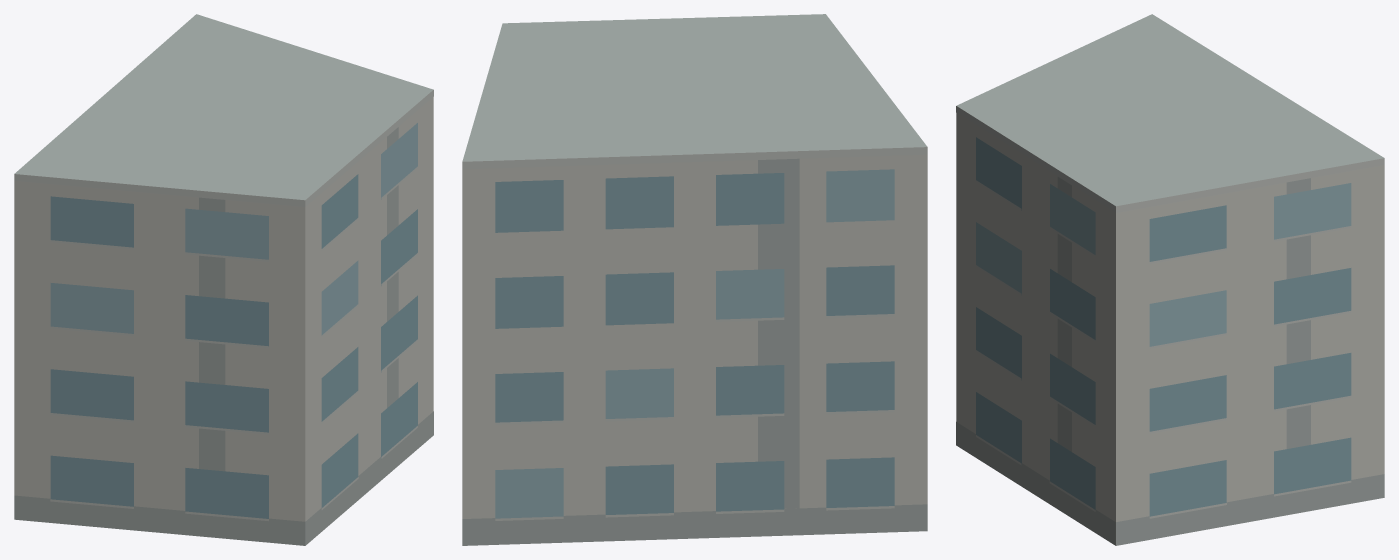
File: residential-e9efdabc-b881-4f8e-b818-fd3882b5161c.glb
3 renders of one model, left to right at view 1: azimuth 30°, elevation 25°; view 2: azimuth 150°, elevation 25°; view 3: azimuth 270°, elevation 25°, orthographic. The views are drawn at different scales.
Parts seen in each view (by area): view 1: residential-e9efdabc-b881-4f8e-b818-fd3882b5161c.tmp; view 2: residential-e9efdabc-b881-4f8e-b818-fd3882b5161c.tmp; view 3: residential-e9efdabc-b881-4f8e-b818-fd3882b5161c.tmp.
Boxes of the visible parts, bbox=[...] form: residential-e9efdabc-b881-4f8e-b818-fd3882b5161c.tmp: bbox=[14, 14, 433, 545]; residential-e9efdabc-b881-4f8e-b818-fd3882b5161c.tmp: bbox=[462, 14, 927, 545]; residential-e9efdabc-b881-4f8e-b818-fd3882b5161c.tmp: bbox=[956, 14, 1384, 545].
Size of the model in its own units: 14.82 by 12.2 by 13.96.
